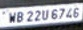character: (33, 9, 41, 21), (72, 6, 79, 18), (41, 8, 48, 20), (26, 10, 33, 22), (58, 7, 65, 18), (51, 8, 57, 20)
